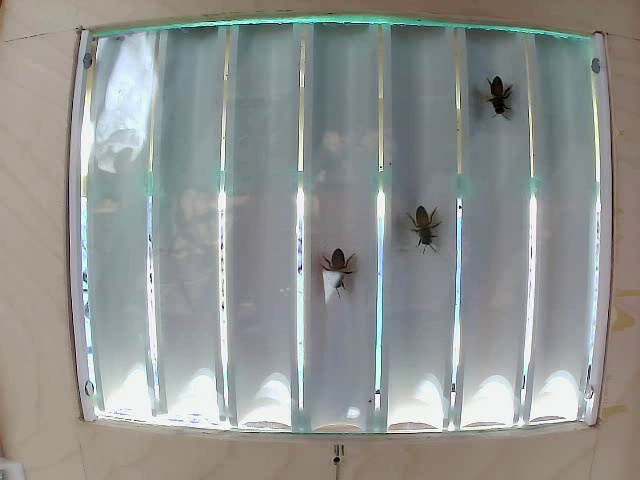bee: (408, 190, 453, 246), (317, 248, 361, 297), (486, 65, 520, 121)
